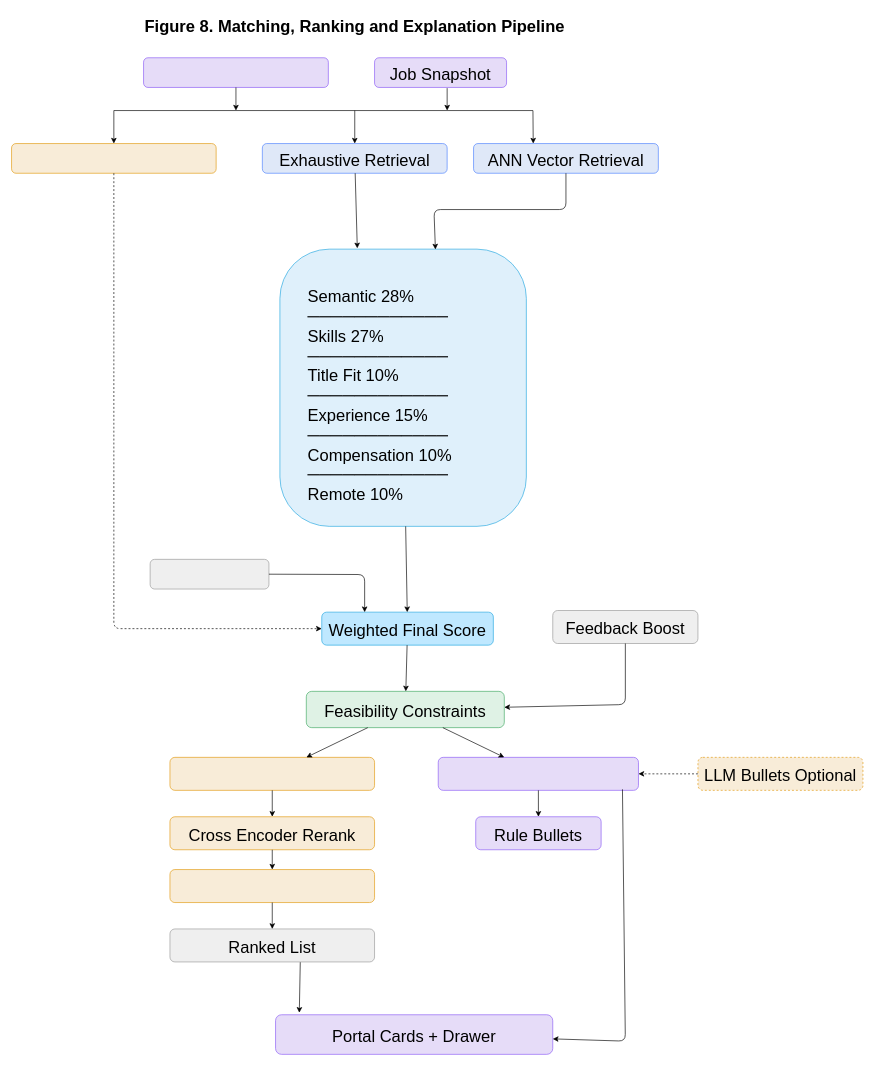
This 875x1066 diagram has some shape labels left out. Each missing label, with the centre of its shape:
Auto Strategy: pixel 209 574
Calibration: pixel 272 886
Candidate Snapshot: pixel 235 72
Lexical BM25 Eval Only: pixel 113 158
RRF Fusion: pixel 272 773
Structured JSON: pixel 538 773
